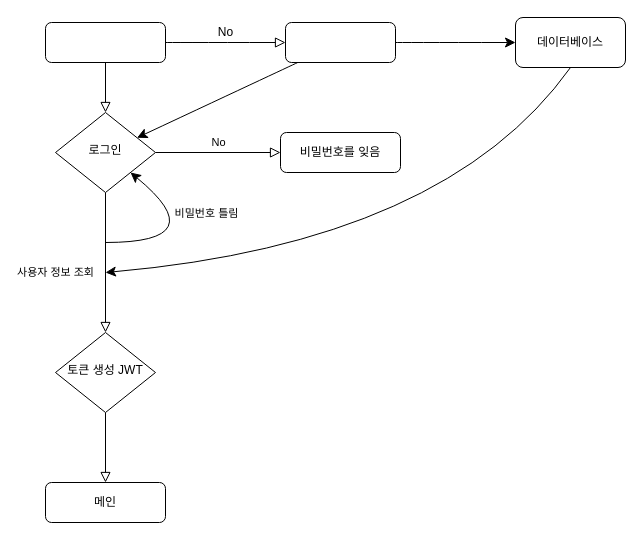
Some shapes in this 643 by 540 pixel diagram are drawn without their labels. The shapes that lost their labels are listed below. From the top down, each one's centre as x and y in pixels, then its label:
the point at 105,42: 계정이 있는가?
the point at 340,42: 회원가입
